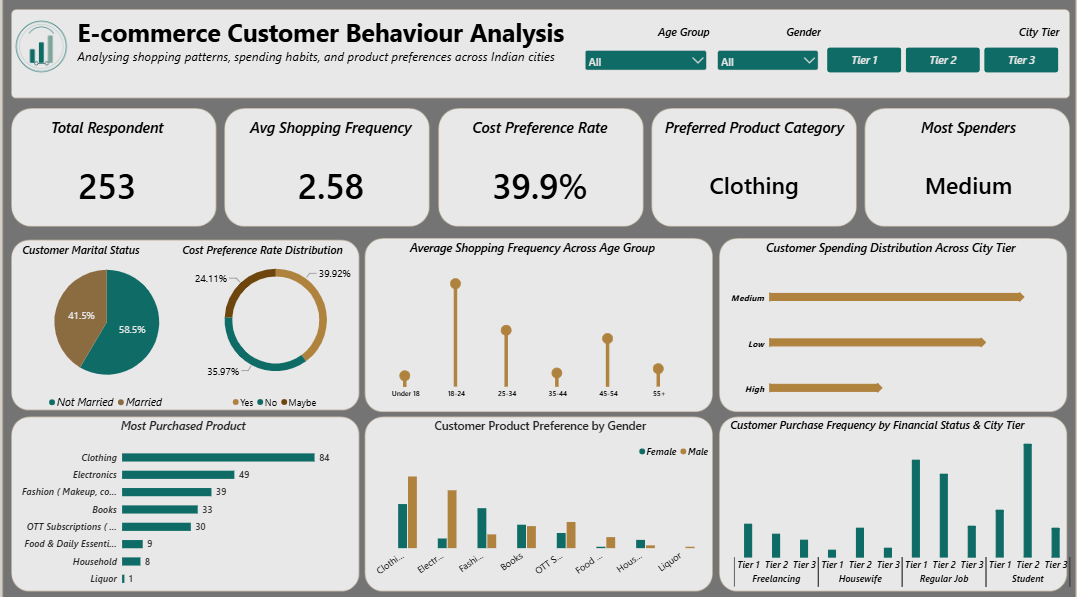

What the dashboard file says about the page in this screenshot:
{"tool":"powerbi","page":{"name":"Page 2","canvas":[1920,1080],"ordinal":1},"visuals":[{"type":"barChart","title":"Most Purchased Product","fields":{"Category":["Customer_Behaviour_Survey_responses.Product Category"],"Y":["CountNonNull(Customer_Behaviour_Survey_responses.Product Category)"]},"box":[34.1,727.3,613.6,329.5],"z":0},{"type":"clusteredColumnChart","title":"Customer Product Preference by Gender","fields":{"Category":["Customer_Behaviour_Survey_responses.Product Category"],"Y":["CountNonNull(Customer_Behaviour_Survey_responses.Product Category)"],"Series":["Customer_Behaviour_Survey_responses.Gender"]},"box":[647.5,727.5,625,312.5],"z":1000},{"type":"columnChart","title":"Customer Purchase Frequency by Financial Status & City Tier","fields":{"Y":["Customer_Behaviour_Survey_responses.Total Respondent"],"Category":["Customer_Behaviour_Survey_responses.Financial Status","Customer_Behaviour_Survey_responses.City Tier"]},"box":[1272.7,727.3,627.3,329.5],"z":2000},{"type":"barChart","title":"Customer Spending Distribution Across City Tier","fields":{"Category":["Customer_Behaviour_Survey_responses.Spend Category"],"Y":["CountNonNull(Customer_Behaviour_Survey_responses.City Tier)"]},"box":[1272.5,420,587.5,340],"z":3000},{"type":"lineStackedColumnComboChart","title":"Average Shopping Frequency Across Age Group","fields":{"Category":["Customer_Behaviour_Survey_responses.Age Group"],"Y":["Avg(Customer_Behaviour_Survey_responses.Shop Frequency Score)"]},"box":[652.5,420,585,310],"z":4000},{"type":"pieChart","title":"Cost Preference Rate Distribution ","fields":{"Category":["Customer_Behaviour_Survey_responses.Price Over Brand"],"Y":["CountNonNull(Customer_Behaviour_Survey_responses.Price Over Brand)"]},"box":[329.5,431.8,345.5,313.6],"z":5000},{"type":"pieChart","title":"Respondents","fields":{"Category":["Customer_Behaviour_Survey_responses.Marital Status"],"Y":["CountNonNull(Customer_Behaviour_Survey_responses.Marital Status)"]},"box":[0,440.9,418.2,306.8],"z":6000},{"type":"textbox","box":[62.5,440,355,42.5],"z":7000},{"type":"textbox","box":[340,440,307.5,42.5],"z":8000},{"type":"cardVisual","title":"Total Respondent","fields":{"Data":["Customer_Behaviour_Survey_responses.Total Respondent"]},"box":[80.1,222.9,259.7,179.6],"z":9000},{"type":"cardVisual","title":"Avg Shopping Frequency","fields":{"Data":["Customer_Behaviour_Survey_responses.Average Shopping Frequency"]},"box":[448,222,298,180],"z":10000},{"type":"cardVisual","title":"Cost Preference Rate","fields":{"Data":["Customer_Behaviour_Survey_responses.Cost Preference Rate"]},"box":[829.5,222.7,260,180],"z":11000},{"type":"cardVisual","title":"Preferred Product Category","fields":{"Data":["Customer_Behaviour_Survey_responses.Most Preferred Product Category"]},"box":[1140.9,222.7,379.5,179.5],"z":12000},{"type":"cardVisual","title":"Most Spenders","fields":{"Data":["Customer_Behaviour_Survey_responses.Most Common Spend Band"]},"box":[1520.5,222.7,359.1,179.5],"z":13000},{"type":"slicer","title":"    Age Group","fields":{"Values":["Customer_Behaviour_Survey_responses.Age Group"]},"box":[1031.8,61.4,220.5,97.7],"z":14000},{"type":"slicer","title":"Gender","fields":{"Values":["Customer_Behaviour_Survey_responses.Gender"]},"box":[1261.4,61.4,184.1,90.9],"z":15000},{"type":"advancedSlicerVisual","fields":{"Values":["Customer_Behaviour_Survey_responses.City Tier"]},"box":[1456.8,61.4,402.3,84.1],"z":16000},{"type":"textbox","box":[157.5,45,875,135],"z":17000},{"type":"image","box":[35,20,122.5,160],"z":18000}]}

Visuals, with their boxes in screenshot pixels (x1, y1, x2, y2), scaled from the page's 1920x1080 canvas onto the 1077x597 screenshot:
"Most Purchased Product" barChart: <region>19, 402, 363, 584</region>
"Customer Product Preference by Gender" clusteredColumnChart: <region>363, 402, 714, 575</region>
"Customer Purchase Frequency by Financial Status & City Tier" columnChart: <region>714, 402, 1066, 584</region>
"Customer Spending Distribution Across City Tier" barChart: <region>714, 232, 1043, 420</region>
"Average Shopping Frequency Across Age Group" lineStackedColumnComboChart: <region>366, 232, 694, 404</region>
"Cost Preference Rate Distribution " pieChart: <region>185, 239, 379, 412</region>
"Respondents" pieChart: <region>0, 244, 235, 413</region>
textbox: <region>35, 243, 234, 267</region>
textbox: <region>191, 243, 363, 267</region>
"Total Respondent" cardVisual: <region>45, 123, 191, 222</region>
"Avg Shopping Frequency" cardVisual: <region>251, 123, 418, 222</region>
"Cost Preference Rate" cardVisual: <region>465, 123, 611, 223</region>
"Preferred Product Category" cardVisual: <region>640, 123, 853, 222</region>
"Most Spenders" cardVisual: <region>853, 123, 1054, 222</region>
"    Age Group" slicer: <region>579, 34, 702, 88</region>
"Gender" slicer: <region>708, 34, 811, 84</region>
advancedSlicerVisual - Customer_Behaviour_Survey_responses.City Tier: <region>817, 34, 1043, 80</region>
textbox: <region>88, 25, 579, 100</region>
image: <region>20, 11, 88, 100</region>
